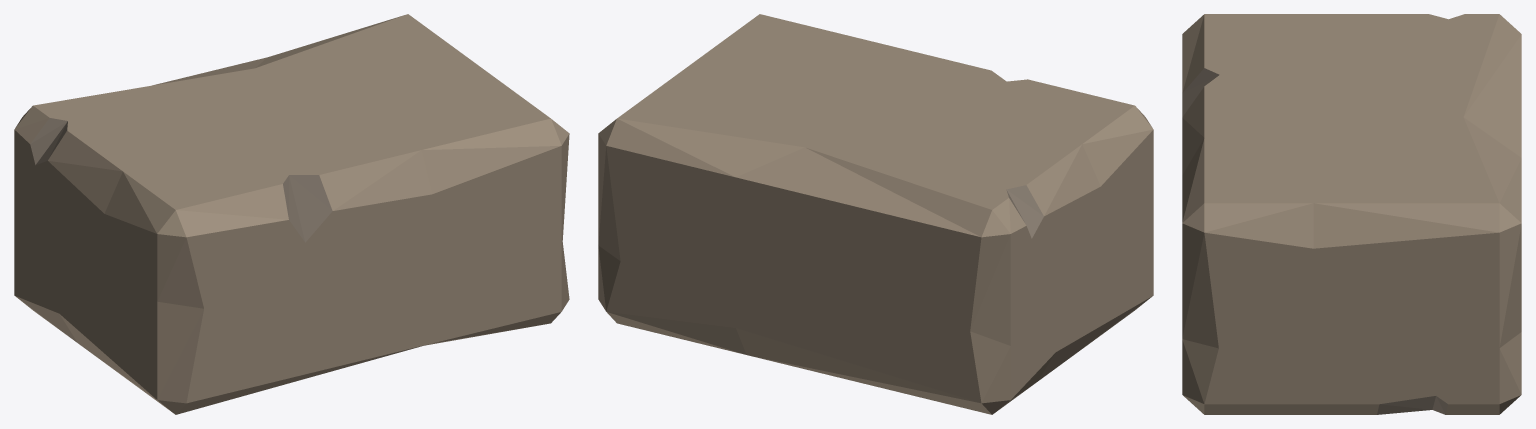
Rendered from SM_Prop_StoneBlock_01.fbx.
The picture shows the model from 3 angles, left to right: view 1: azimuth 30°, elevation 25°; view 2: azimuth 150°, elevation 25°; view 3: azimuth 270°, elevation 25°; orthographic projection. The views are drawn at different scales.
Parts seen in each view (by area): view 1: SM_Prop_StoneBlock_01; view 2: SM_Prop_StoneBlock_01; view 3: SM_Prop_StoneBlock_01.
Boxes of the visible parts, <box> form: SM_Prop_StoneBlock_01: <box>14,14,569,414</box>; SM_Prop_StoneBlock_01: <box>598,14,1153,414</box>; SM_Prop_StoneBlock_01: <box>1182,14,1521,414</box>.
Bounding box in the file's own units: 0.00686 × 0.00326 × 0.00473.
Materials: 1 (1 with a texture image).
